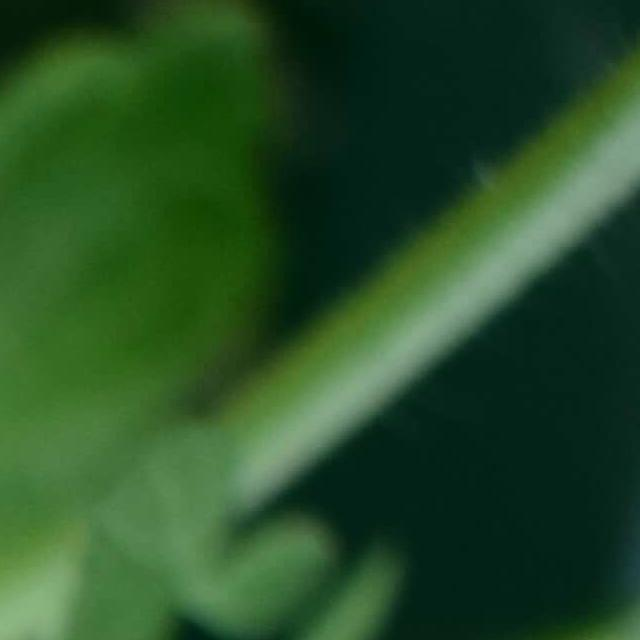Tomato mold leaf: (0, 440, 100, 640), (0, 0, 61, 205)
